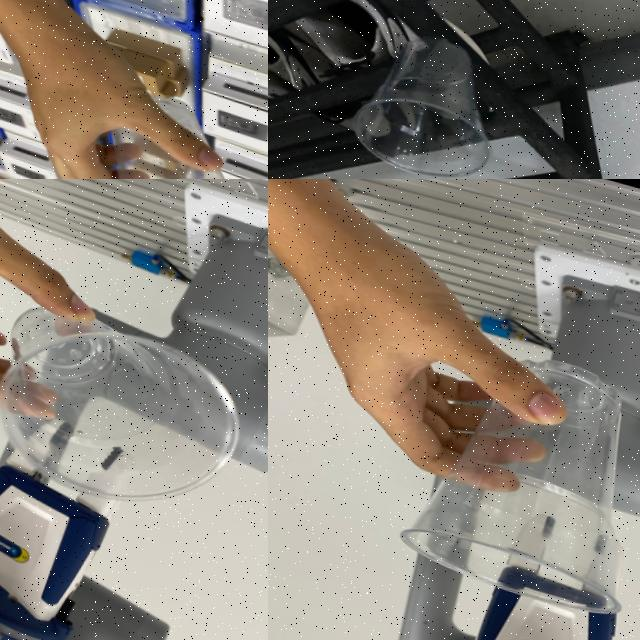glass: (390, 315, 640, 624), (0, 274, 268, 539), (339, 9, 522, 179), (80, 68, 268, 179)
